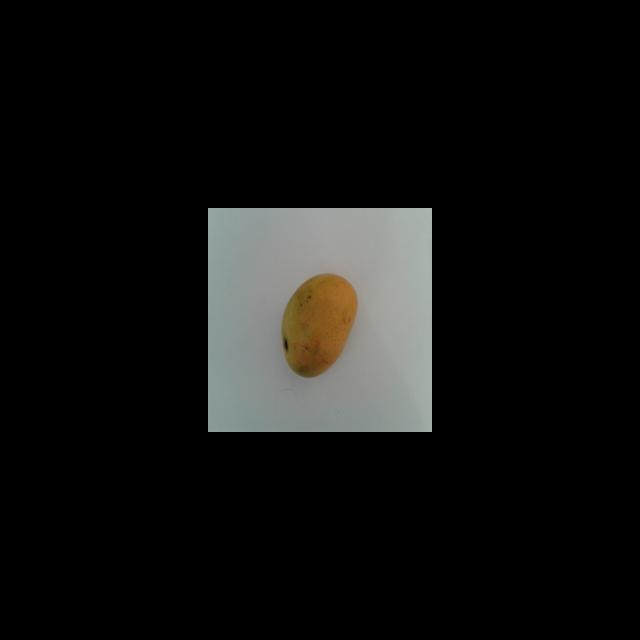Mango: (280, 272, 357, 377)
